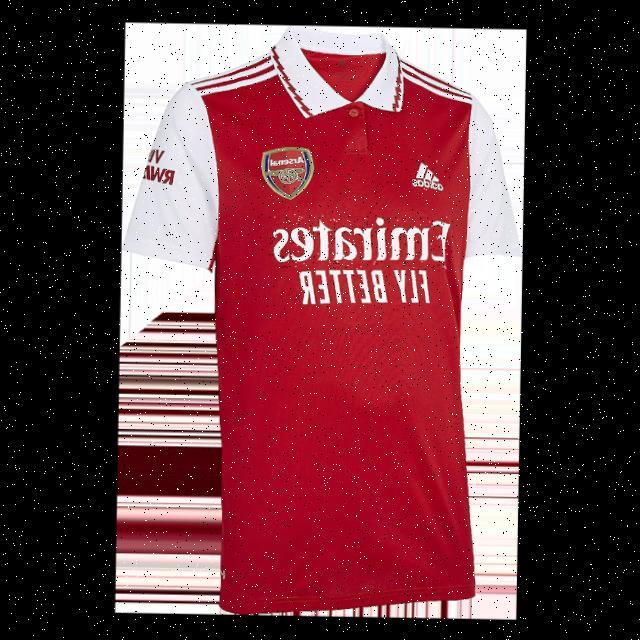Adidas: (409, 160, 444, 191)
Emirates: (270, 213, 451, 270)
